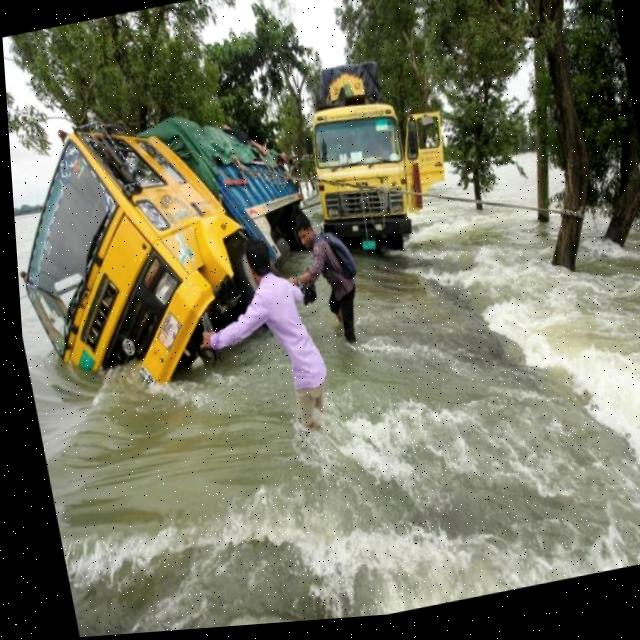civilian: (183, 226, 345, 461), (273, 208, 378, 371)
